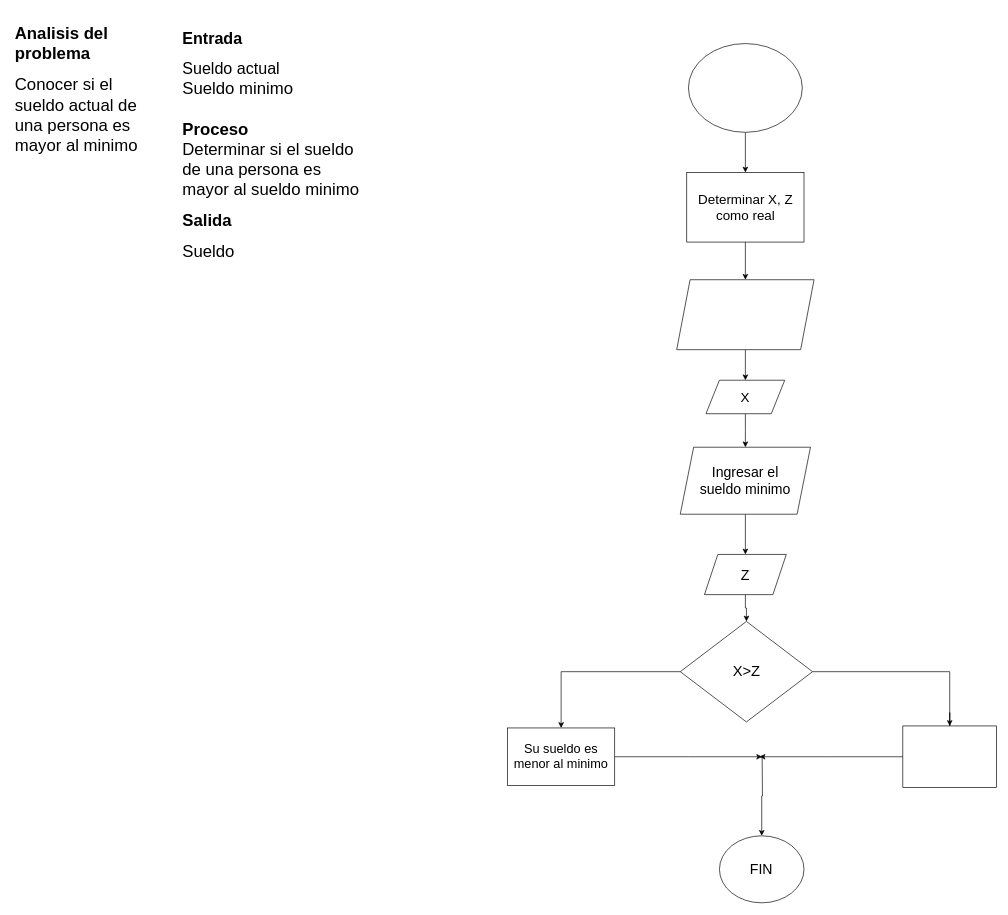
Some shapes in this 1008 by 915 pixel diagram are drawn without their labels. The shapes that lost their labels are listed below. From the top down, each one's centre as x and y in pixels, then its label:
point (745, 87): INICIO
point (745, 314): Ingresar sueldo actual
point (949, 756): Su sueldo es mayor al minimo
